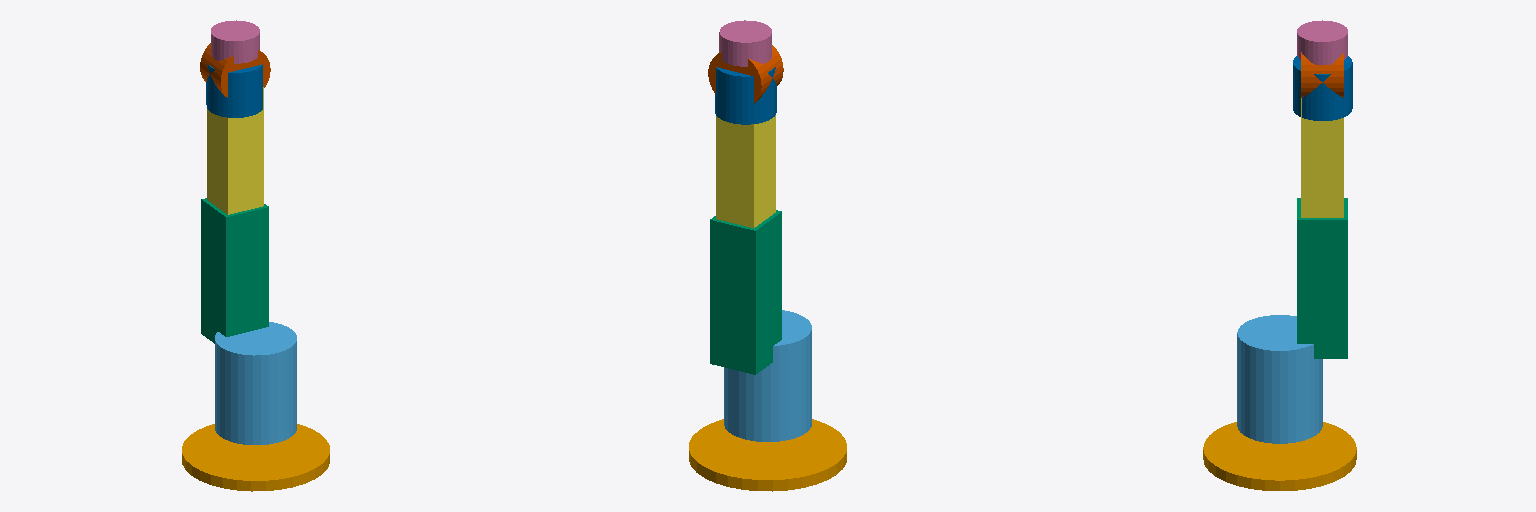
URDF robot description (showcase6):
<?xml version="1.0"?>
<!--
  showcase6 — a believable 6-DOF anthropomorphic arm with a SPHERICAL WRIST
  (j4,j5,j6 axes intersect at the wrist), authored for Caliper Studio's flagship
  render. ~0.45m typical reach. Z-up base.

  NOTE: the <visual> primitive geometry below is IGNORED by the engine — caliper's
  compile() reads ONLY joint type / origin / axis / limit / inertial. Visuals exist
  purely so an optional urdf-loader cross-render has something to draw; the engine-
  driven procedural render is the source of truth. Adding/removing visuals cannot
  change the Pinocchio-validated kinematics.

  Phase 4: each link carries an <inertial> (solid-primitive inertia about its COM)
  so RNEA/CRBA/forward-dynamics have mass to work with. compile() does not read
  <inertial> for kinematics, so FK/Jacobian/IK/analysis stay byte-identical.
-->
<robot name="showcase6">
  <link name="base">
    <visual>
      <origin xyz="0 0 0.007" rpy="0 0 0"/>
      <geometry><cylinder radius="0.09" length="0.014"/></geometry>
    </visual>
    <inertial><origin xyz="0 0 0.007" rpy="0 0 0"/><mass value="2.0"/>
      <inertia ixx="0.00408" ixy="0" ixz="0" iyy="0.00408" iyz="0" izz="0.00810"/></inertial>
  </link>
  <link name="shoulder">
    <visual>
      <origin xyz="0 0 0" rpy="0 0 0"/>
      <geometry><cylinder radius="0.05" length="0.12"/></geometry>
    </visual>
    <inertial><origin xyz="0 0 0" rpy="0 0 0"/><mass value="1.6"/>
      <inertia ixx="0.00288" ixy="0" ixz="0" iyy="0.00288" iyz="0" izz="0.00200"/></inertial>
  </link>
  <link name="upper_arm">
    <visual>
      <origin xyz="0 0 0.09" rpy="0 0 0"/>
      <geometry><box size="0.06 0.06 0.18"/></geometry>
    </visual>
    <inertial><origin xyz="0 0 0.09" rpy="0 0 0"/><mass value="1.2"/>
      <inertia ixx="0.00360" ixy="0" ixz="0" iyy="0.00360" iyz="0" izz="0.00072"/></inertial>
  </link>
  <link name="forearm">
    <visual>
      <origin xyz="0 0 0.08" rpy="0 0 0"/>
      <geometry><box size="0.05 0.05 0.16"/></geometry>
    </visual>
    <inertial><origin xyz="0 0 0.08" rpy="0 0 0"/><mass value="0.9"/>
      <inertia ixx="0.00211" ixy="0" ixz="0" iyy="0.00211" iyz="0" izz="0.000375"/></inertial>
  </link>
  <link name="wrist1">
    <visual>
      <origin xyz="0 0 0" rpy="0 0 0"/>
      <geometry><cylinder radius="0.035" length="0.06"/></geometry>
    </visual>
    <inertial><origin xyz="0 0 0" rpy="0 0 0"/><mass value="0.5"/>
      <inertia ixx="0.000303" ixy="0" ixz="0" iyy="0.000303" iyz="0" izz="0.000306"/></inertial>
  </link>
  <link name="wrist2">
    <visual>
      <origin xyz="0 0 0" rpy="1.5708 0 0"/>
      <geometry><cylinder radius="0.035" length="0.05"/></geometry>
    </visual>
    <inertial><origin xyz="0 0 0" rpy="1.5708 0 0"/><mass value="0.4"/>
      <inertia ixx="0.0002058" ixy="0" ixz="0" iyy="0.0002058" iyz="0" izz="0.000245"/></inertial>
  </link>
  <link name="flange">
    <visual>
      <origin xyz="0 0 0.015" rpy="0 0 0"/>
      <geometry><cylinder radius="0.03" length="0.03"/></geometry>
    </visual>
    <inertial><origin xyz="0 0 0.015" rpy="0 0 0"/><mass value="0.3"/>
      <inertia ixx="0.00009" ixy="0" ixz="0" iyy="0.00009" iyz="0" izz="0.000135"/></inertial>
  </link>

  <joint name="j1" type="revolute">
    <parent link="base"/><child link="shoulder"/>
    <origin xyz="0 0 0.103" rpy="0 0 0"/><axis xyz="0 0 1"/>
    <limit lower="-2.9" upper="2.9" effort="50" velocity="3"/>
  </joint>
  <joint name="j2" type="revolute">
    <parent link="shoulder"/><child link="upper_arm"/>
    <origin xyz="0 0.05 0.04" rpy="0 0 0"/><axis xyz="0 1 0"/>
    <limit lower="-2.0" upper="2.0" effort="50" velocity="3"/>
  </joint>
  <joint name="j3" type="revolute">
    <parent link="upper_arm"/><child link="forearm"/>
    <origin xyz="0 0 0.18" rpy="0 0 0"/><axis xyz="0 1 0"/>
    <limit lower="-2.6" upper="2.6" effort="50" velocity="3"/>
  </joint>
  <joint name="j4" type="revolute">
    <parent link="forearm"/><child link="wrist1"/>
    <origin xyz="0 0 0.16" rpy="0 0 0"/><axis xyz="0 0 1"/>
    <limit lower="-2.9" upper="2.9" effort="20" velocity="3"/>
  </joint>
  <joint name="j5" type="revolute">
    <parent link="wrist1"/><child link="wrist2"/>
    <origin xyz="0 0 0.02" rpy="0 0 0"/><axis xyz="0 1 0"/>
    <limit lower="-2.0" upper="2.0" effort="20" velocity="3"/>
  </joint>
  <joint name="j6" type="revolute">
    <parent link="wrist2"/><child link="flange"/>
    <origin xyz="0 0 0.02" rpy="0 0 0"/><axis xyz="0 0 1"/>
    <limit lower="-3.1" upper="3.1" effort="20" velocity="3"/>
  </joint>
</robot>

--- Facts derived from the render (not from the file) ---
3 views of the same robot in one strip: view 1: azimuth 30°, elevation 25°; view 2: azimuth 150°, elevation 25°; view 3: azimuth 270°, elevation 25° (orthographic).
Robot: showcase6 — 7 links, 6 joints (6 revolute); root link base; default pose: every joint at zero.
Links seen in each view (by area): view 1: shoulder, upper_arm, base, forearm, wrist1, flange, wrist2; view 2: upper_arm, base, shoulder, forearm, wrist1, flange, wrist2; view 3: shoulder, base, upper_arm, forearm, wrist1, flange, wrist2.
Boxes of the visible links, box(x1,y1,x2,y2) form: shoulder: box(215, 322, 296, 444); upper_arm: box(201, 198, 268, 343); base: box(182, 424, 329, 491); forearm: box(207, 87, 263, 214); wrist1: box(206, 64, 262, 117); flange: box(211, 20, 259, 63); wrist2: box(200, 43, 270, 97); upper_arm: box(710, 210, 781, 374); base: box(689, 419, 846, 491); shoulder: box(724, 310, 811, 441); forearm: box(716, 115, 775, 227); wrist1: box(715, 67, 776, 124); flange: box(719, 20, 771, 66); wrist2: box(708, 45, 783, 103); shoulder: box(1237, 315, 1322, 443); base: box(1203, 422, 1356, 490); upper_arm: box(1297, 198, 1347, 358); forearm: box(1301, 98, 1343, 217); wrist1: box(1293, 56, 1352, 120); flange: box(1297, 20, 1347, 64); wrist2: box(1301, 52, 1343, 97).
Size in the robot's own frame: 0.18 by 0.18 by 0.553 metres.
Geometry: primitives only (box / cylinder / sphere), no mesh files.
